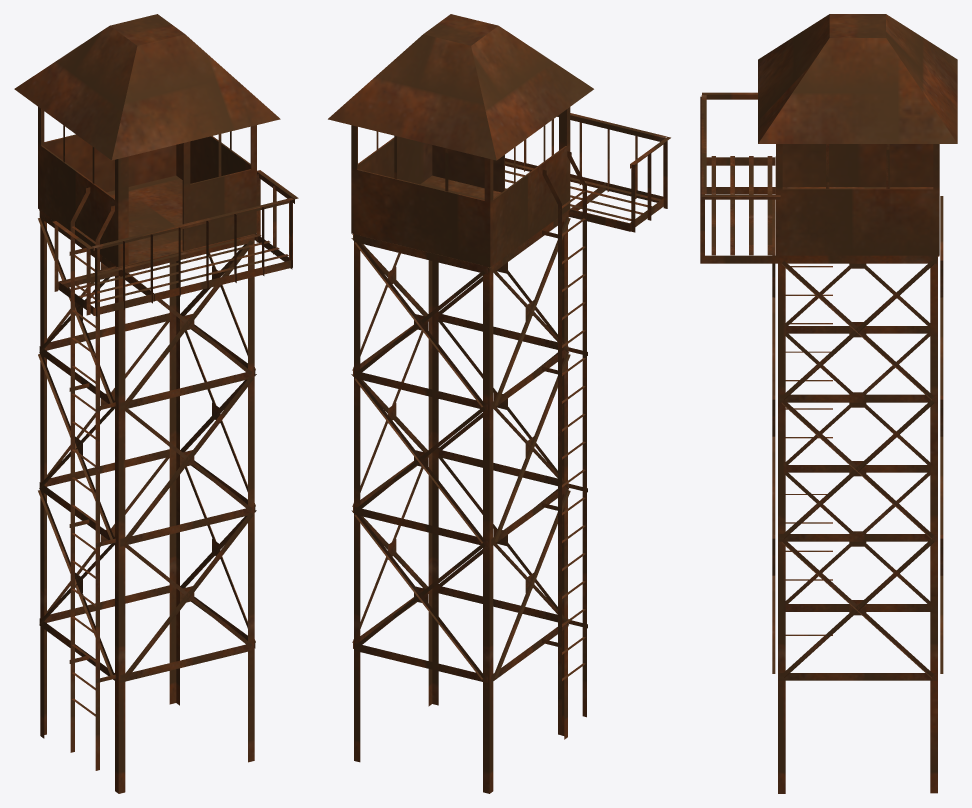
The model's file is SM_GuardTower.fbx.
The picture shows the model from 3 angles, left to right: view 1: azimuth 30°, elevation 25°; view 2: azimuth 150°, elevation 25°; view 3: azimuth 270°, elevation 25°; orthographic projection. The views are drawn at different scales.
Visible parts, largest first — view 1: polySurface300; view 2: polySurface300; view 3: polySurface300.
Boxes of the visible parts, x1,y1,x2,y2 form: polySurface300: (14, 14, 298, 793); polySurface300: (328, 14, 670, 793); polySurface300: (700, 14, 957, 793).
Bounding box in the file's own units: 4.84 × 15.18 × 4.82.
